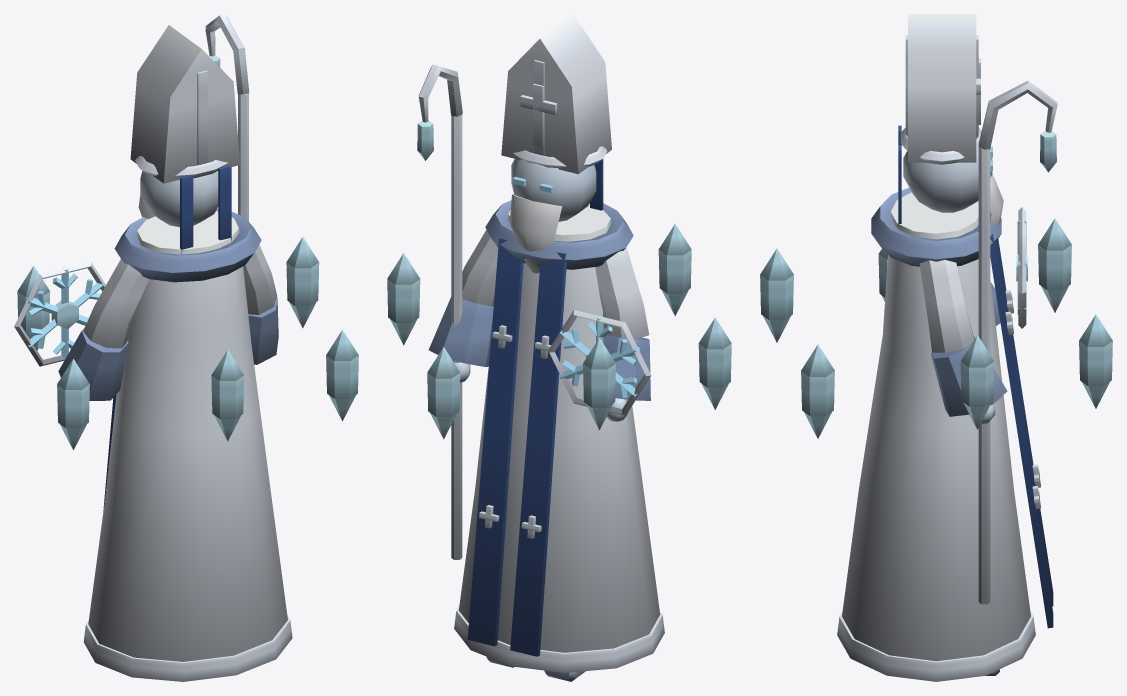
The model's file is mob_rime_chaplain.fbx.
The picture shows the model from 3 angles, left to right: view 1: azimuth 30°, elevation 25°; view 2: azimuth 150°, elevation 25°; view 3: azimuth 270°, elevation 25°; orthographic projection. The views are drawn at different scales.
Parts seen in each view (by area): view 1: Body, Head, ExtraRing, ForearmL, ForearmR, ArmL, ForearmL_Glow_Frost, ArmR; view 2: Body, Head, ExtraRing, ForearmR, ForearmL, ArmL, ArmR, ForearmL_Glow_Frost; view 3: Body, Head, ExtraRing, ForearmR, ArmR, ForearmL.
Part boxes in pixels (box(x1,y1,x2,y2)): Body: box(83, 208, 292, 681); Head: box(130, 25, 240, 253); ExtraRing: box(17, 237, 358, 450); ForearmL: box(14, 261, 128, 400); ForearmR: box(205, 14, 278, 364); ArmL: box(83, 259, 149, 348); ForearmL_Glow_Frost: box(25, 267, 104, 357); ArmR: box(243, 245, 276, 314); Body: box(454, 200, 664, 672); Head: box(501, 14, 611, 273); ExtraRing: box(387, 224, 731, 439); ForearmR: box(417, 64, 493, 559); ForearmL: box(548, 310, 651, 421); ArmL: box(595, 247, 649, 338); ArmR: box(462, 230, 498, 306); ForearmL_Glow_Frost: box(560, 316, 639, 398); Body: box(837, 188, 1053, 681); Head: box(898, 14, 1003, 226); ExtraRing: box(760, 218, 1112, 438); ForearmR: box(931, 80, 1057, 604); ArmR: box(919, 259, 974, 352); ForearmL: box(990, 207, 1027, 328).
Size of the model in its own units: 307 by 620 by 309.
2 materials, 1 textured.
